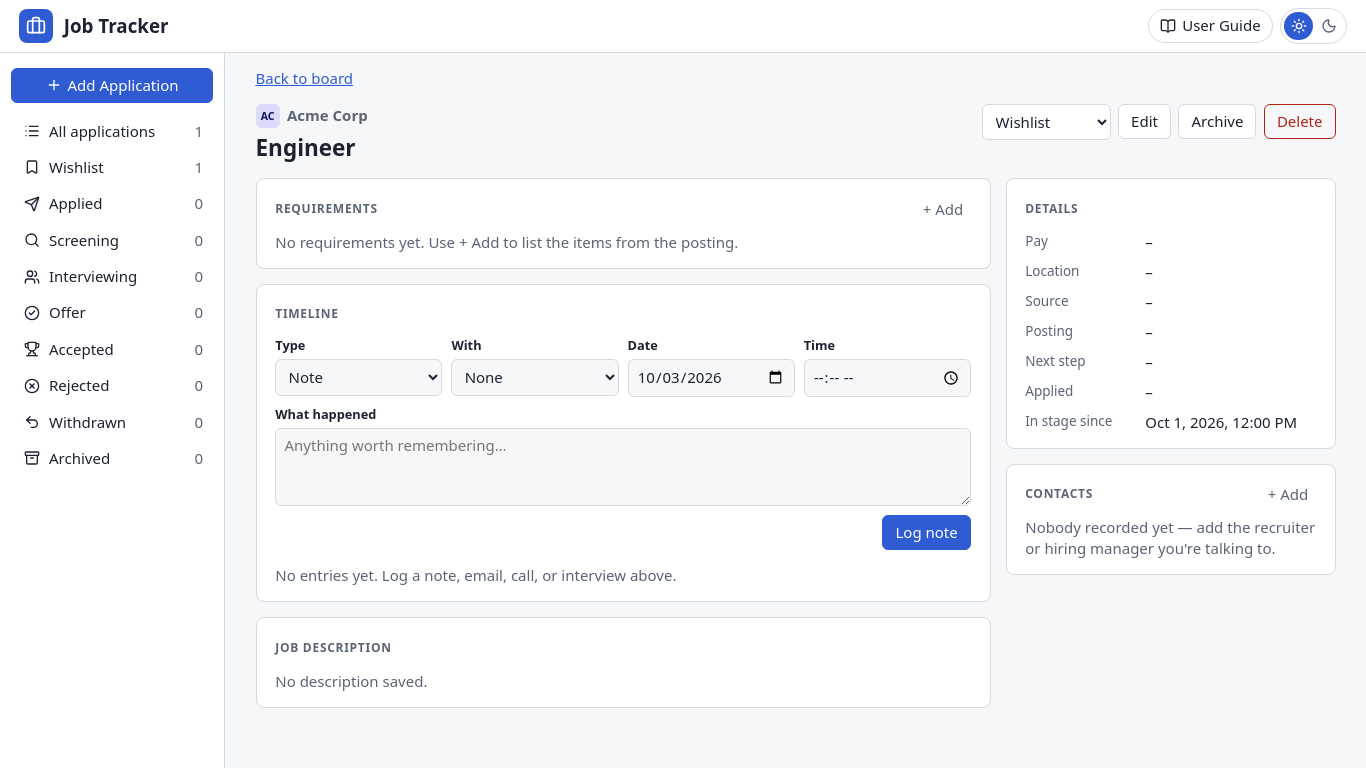
Test: the Website field in the application form (spec 017, AC-7) › says why and saves nothing when it isn't a usable web address
Click the button "Edit": (1145, 122) [1118,104,1171,139]
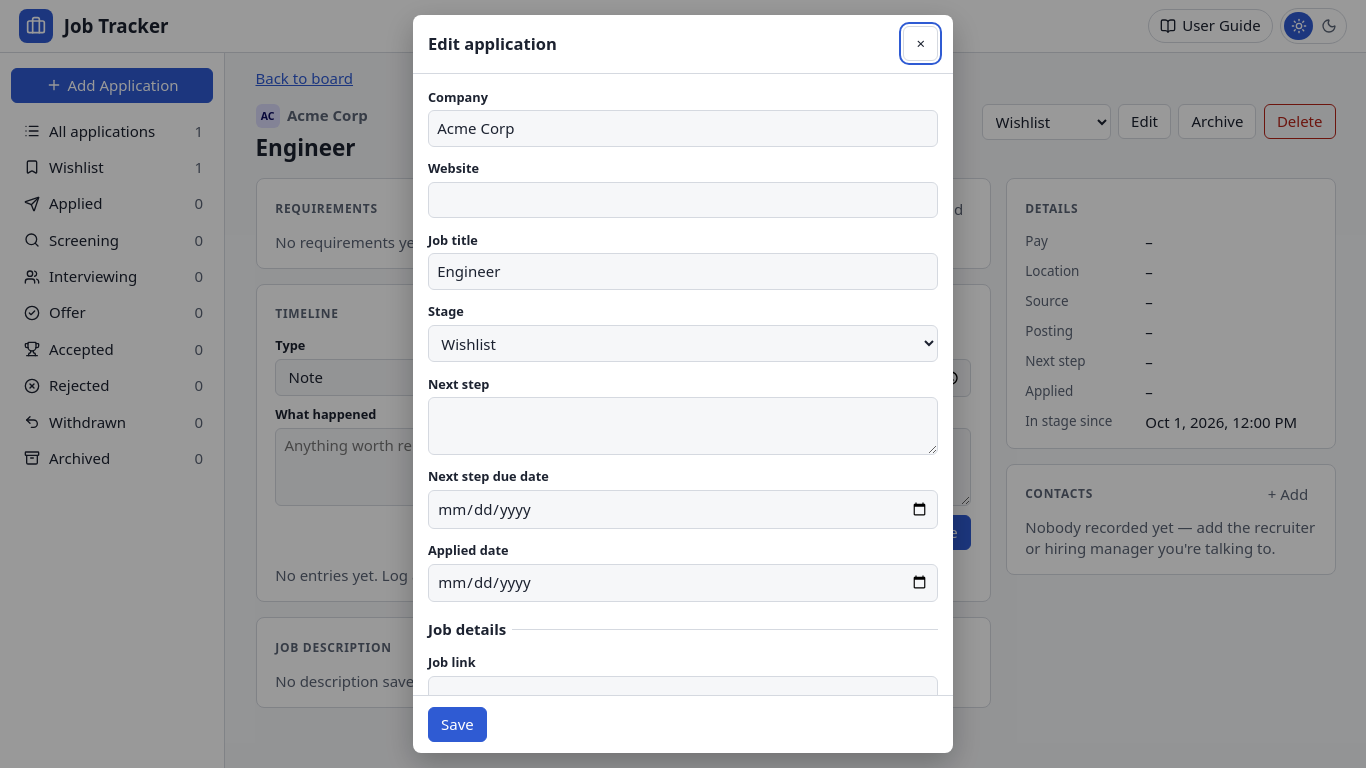
In the field labelled "Website": (683, 200) [428,182,938,218], type "ftp://acme.com"
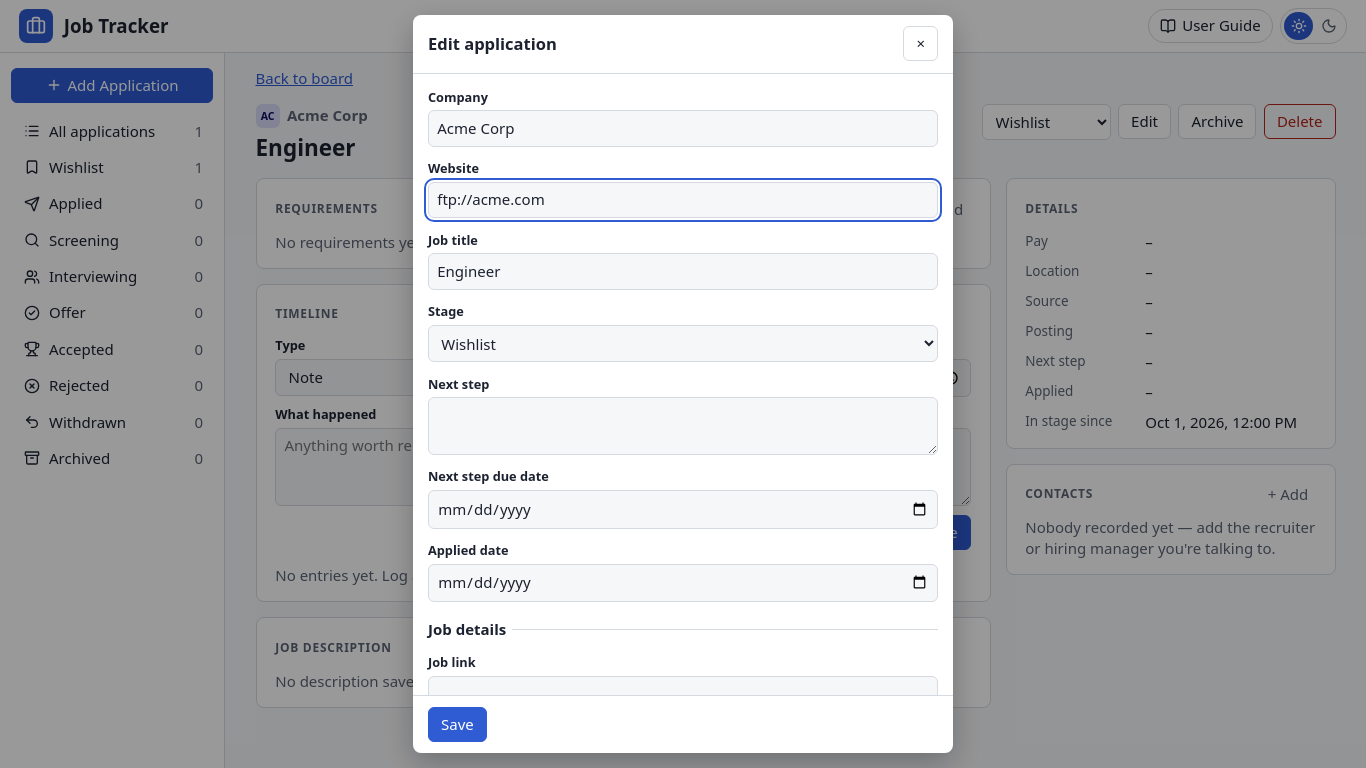
Click the button "Save": (457, 724) [428,707,487,742]
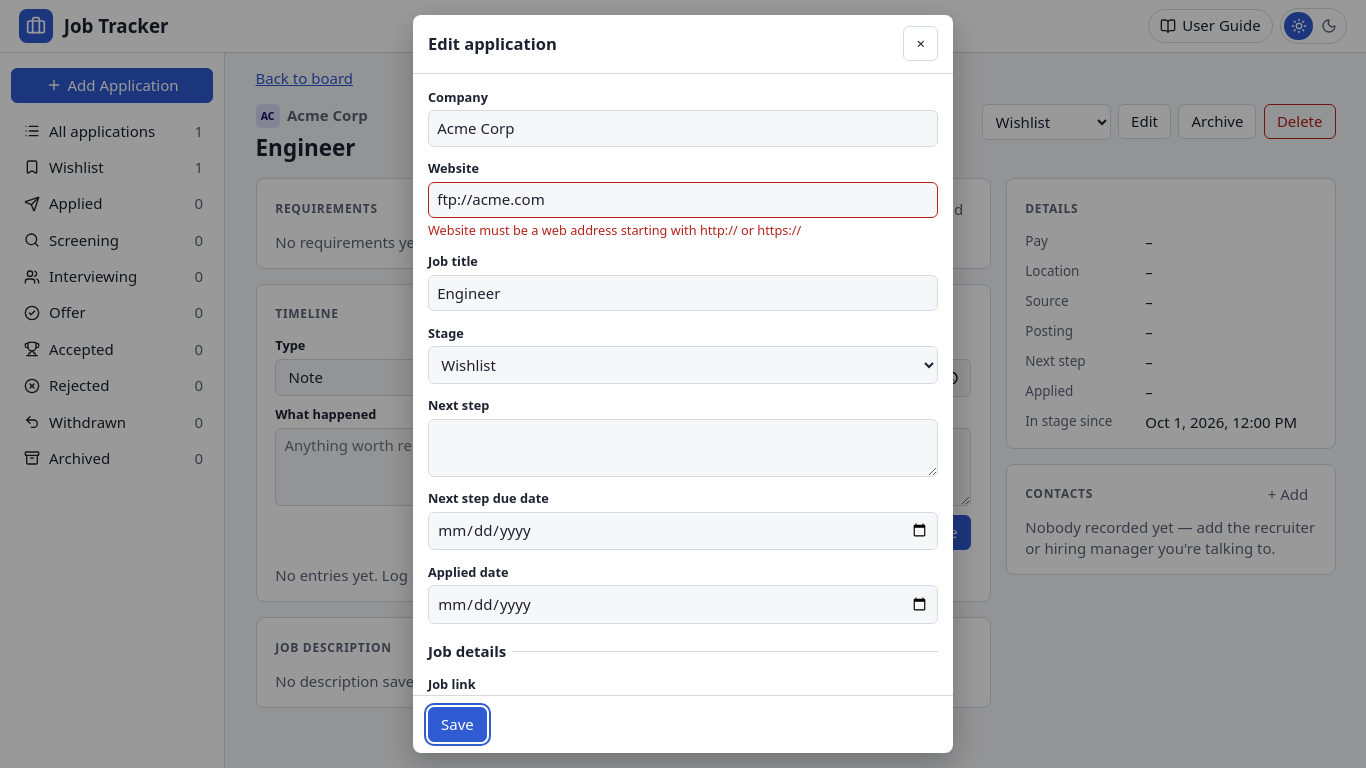
Expected: the text "Website must be a web address starting with http:// or https://" is shown, [428,221,801,239]
